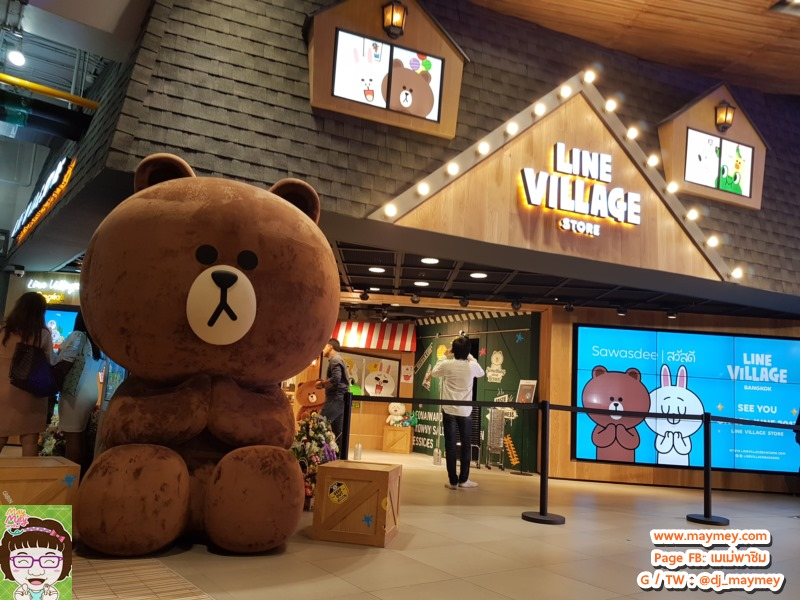line_brown: (65, 149, 357, 407), (579, 362, 653, 435), (377, 55, 443, 128)
